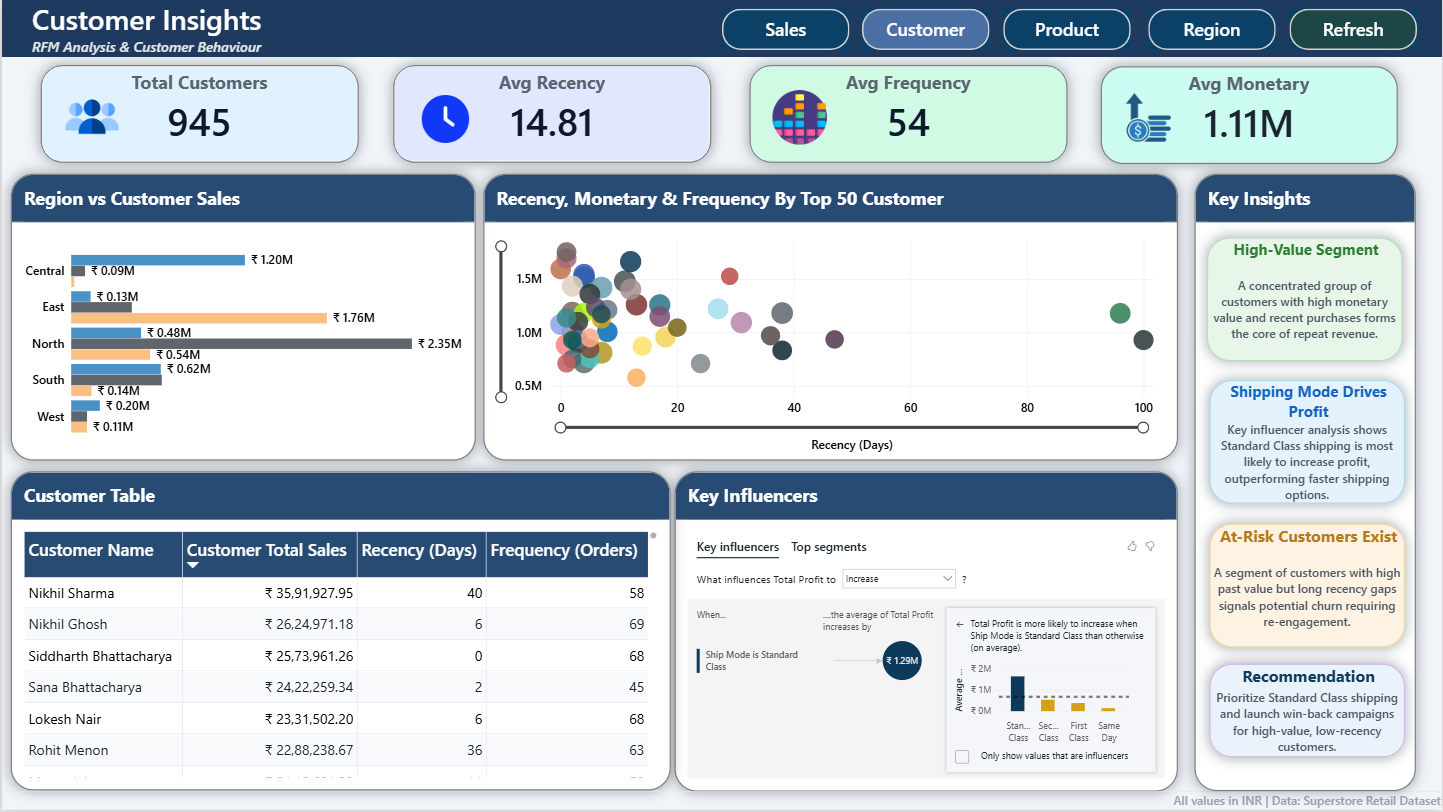

The dashboard page shown, as its layout file describes it:
{"tool":"powerbi","page":{"name":"Customer Insights","canvas":[1920,1080],"ordinal":1},"visuals":[{"type":"scatterChart","title":"Recency, Monetary & Frequency By Top 50 Customer","fields":{"Series":["Orders.Customer Name"],"Size":["Orders.Frequency (Orders)"],"X":["Orders.Recency (Days)"],"Y":["Orders.Monetary"]},"box":[642,231.6,926.4,382.4],"z":0},{"type":"keyDriversVisual","title":"Key Influencers","fields":{"ExplainBy":["Orders.Segment","Orders.Region","Orders.Ship Mode","Orders.Category"],"Target":["Orders.Total Profit"]},"box":[896.9,628,671.5,427.5],"z":1000},{"type":"tableEx","title":"Customer Table","fields":{"Values":["Orders.Customer Name","Orders.Customer Total Sales","Orders.Recency (Days)","Orders.Frequency (Orders)"]},"box":[10.9,628,879.8,425.9],"z":2000},{"type":"textbox","box":[0,1055.4,1919.7,24.9],"z":3000},{"type":"textbox","box":[0,0,1919.7,76.2],"z":4000},{"type":"cardVisual","fields":{"Data":["Orders.Total Customers"]},"box":[51.3,87,424.4,130],"z":5000},{"type":"cardVisual","fields":{"Data":["Orders.Avg Recency"]},"box":[522.3,87,424,130],"z":6000},{"type":"cardVisual","fields":{"Data":["Orders.Avg Frequency"]},"box":[996.4,87,424,130],"z":7000},{"type":"cardVisual","fields":{"Data":["Orders.Avg Monetary"]},"box":[1464.3,88.6,396,130],"z":8000},{"type":"image","box":[71.5,119.7,96.4,71.5],"z":9000},{"type":"image","box":[551.8,127.5,79.3,63.7],"z":10000},{"type":"image","box":[1019.7,119.7,87,73.1],"z":11000},{"type":"image","box":[1487.6,119.7,80.8,73.1],"z":12000},{"type":"actionButton","box":[1335.2,10.9,170,55],"z":13000},{"type":"shape","title":"Key Insights","box":[1590.2,231.6,295,823],"z":14000},{"type":"shape","title":"High-Value Segment","box":[1607.3,317.1,261,165],"z":15000},{"type":"shape","title":"At-Risk Customers Exist","box":[1610.4,697.9,261,165],"z":16000},{"type":"shape","title":"Shipping Mode Drives Profit","box":[1610.4,506.7,261,165],"z":17000},{"type":"shape","title":"Recommendation","box":[1610.4,884.5,261,125],"z":18000},{"type":"clusteredBarChart","title":"Region vs Customer Sales","fields":{"Category":["Orders.Region"],"Series":["Orders.Customer Name"],"Y":["Orders.Total Sales"]},"box":[10.9,231.6,620.2,382.4],"z":19000},{"type":"actionButton","box":[960.6,10.9,170,55],"z":20000},{"type":"actionButton","box":[1147.2,10.9,170,55],"z":21000},{"type":"actionButton","box":[1528,10.9,170,55],"z":22000},{"type":"actionButton","box":[1716.1,10.9,170,55],"z":22001}]}

Visuals, with their boxes in screenshot pixels (x1, y1, x2, y2), scaled from the page's 1920x1080 canvas onto the 1443x812 screenshot:
"Recency, Monetary & Frequency By Top 50 Customer" scatterChart: [483, 174, 1179, 462]
"Key Influencers" keyDriversVisual: [674, 472, 1179, 794]
"Customer Table" tableEx: [8, 472, 669, 792]
textbox: [0, 794, 1442, 811]
textbox: [0, 0, 1442, 57]
cardVisual - Orders.Total Customers: [39, 65, 358, 163]
cardVisual - Orders.Avg Recency: [393, 65, 711, 163]
cardVisual - Orders.Avg Frequency: [749, 65, 1068, 163]
cardVisual - Orders.Avg Monetary: [1101, 67, 1398, 164]
image: [54, 90, 126, 144]
image: [415, 96, 474, 144]
image: [766, 90, 832, 145]
image: [1118, 90, 1179, 145]
actionButton: [1003, 8, 1131, 50]
"Key Insights" shape: [1195, 174, 1417, 793]
"High-Value Segment" shape: [1208, 238, 1404, 362]
"At-Risk Customers Exist" shape: [1210, 525, 1406, 649]
"Shipping Mode Drives Profit" shape: [1210, 381, 1406, 505]
"Recommendation" shape: [1210, 665, 1406, 759]
"Region vs Customer Sales" clusteredBarChart: [8, 174, 474, 462]
actionButton: [722, 8, 850, 50]
actionButton: [862, 8, 990, 50]
actionButton: [1148, 8, 1276, 50]
actionButton: [1290, 8, 1418, 50]
